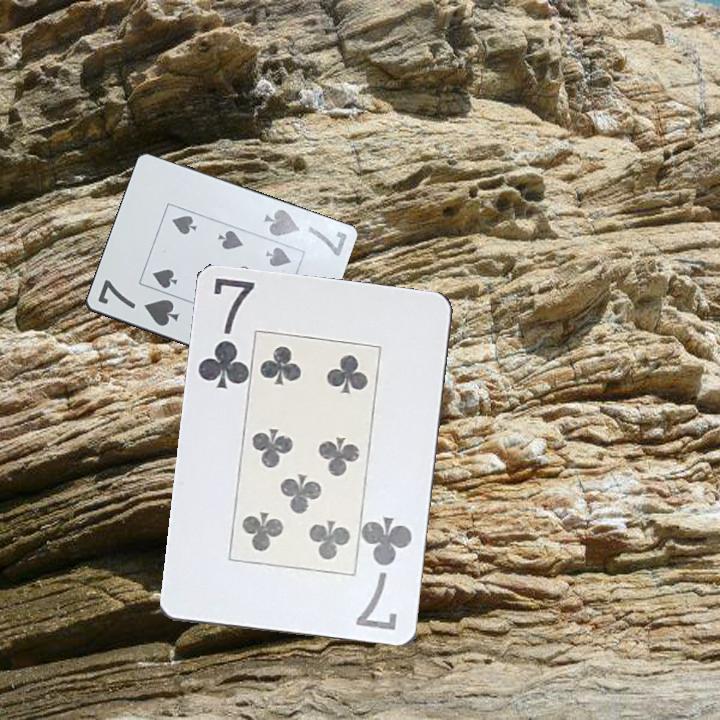7c: (354, 514, 416, 634), (195, 274, 258, 392)
7s: (260, 206, 350, 259), (94, 276, 182, 329)
